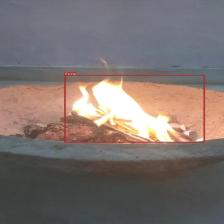fire: (64, 74, 205, 142)
